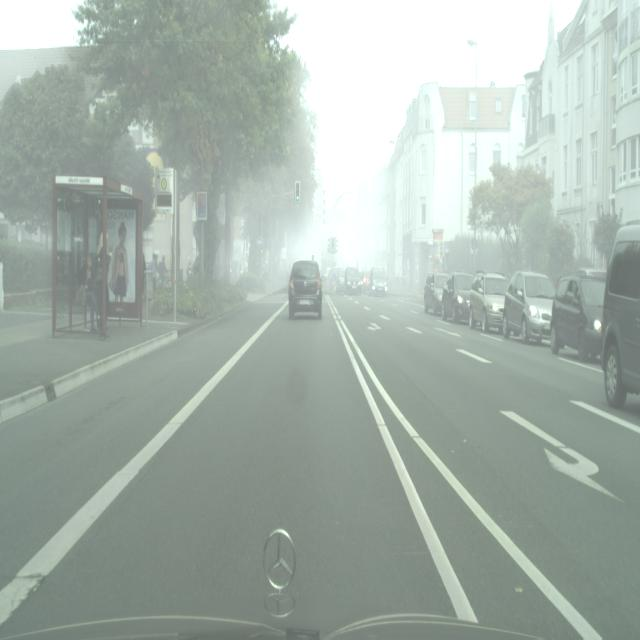bus: (600, 222, 640, 409), (549, 269, 606, 362), (502, 269, 556, 346), (468, 271, 509, 333), (288, 259, 323, 319), (441, 271, 475, 323), (423, 272, 449, 314), (371, 267, 388, 298), (344, 267, 362, 296), (335, 267, 347, 294)
person: (77, 252, 100, 333), (150, 251, 159, 292), (158, 254, 167, 287)
